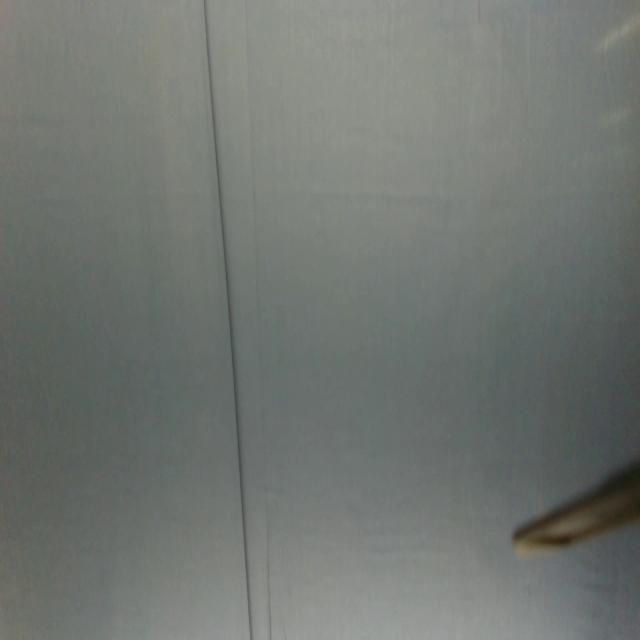crease: (203, 0, 253, 640), (263, 517, 274, 640)
